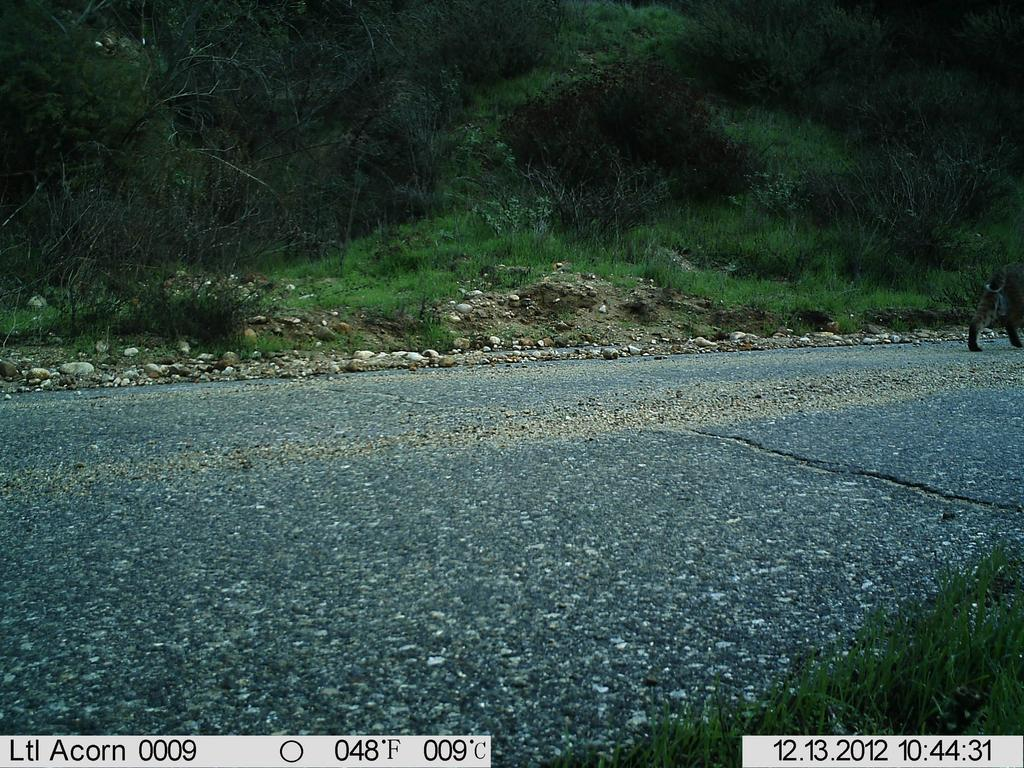bobcat: (963, 258, 1023, 357)
